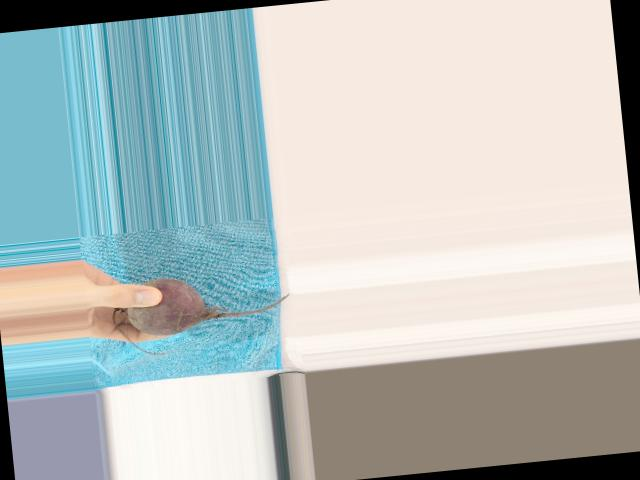beet: (110, 265, 295, 357)
